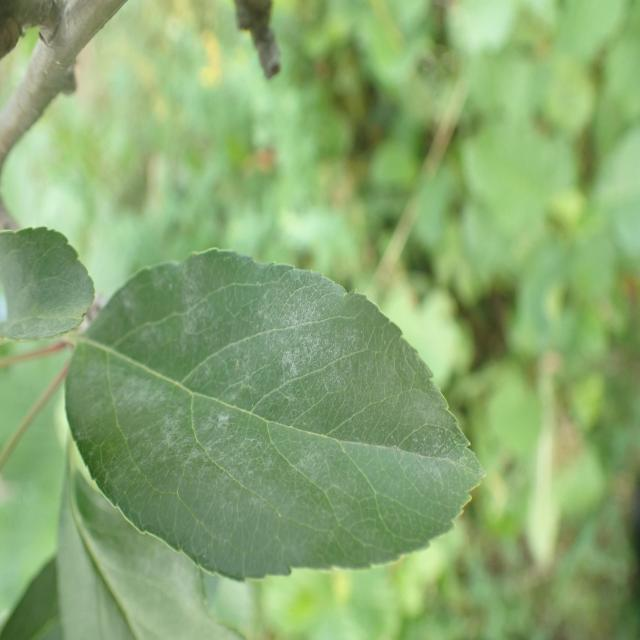Powdery_mildew: (78, 236, 487, 587)
